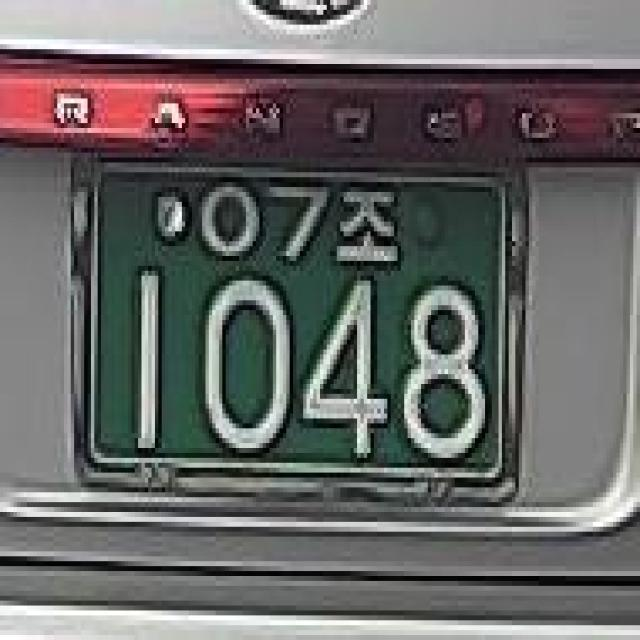illegal_plate: (58, 135, 536, 527)
